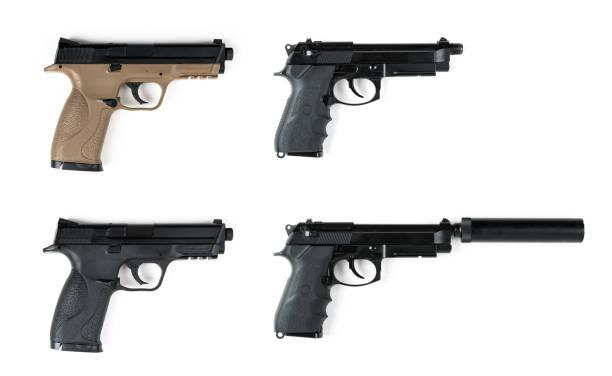weapon: (273, 214, 583, 343), (43, 29, 236, 175), (41, 216, 236, 356), (273, 33, 464, 163)
